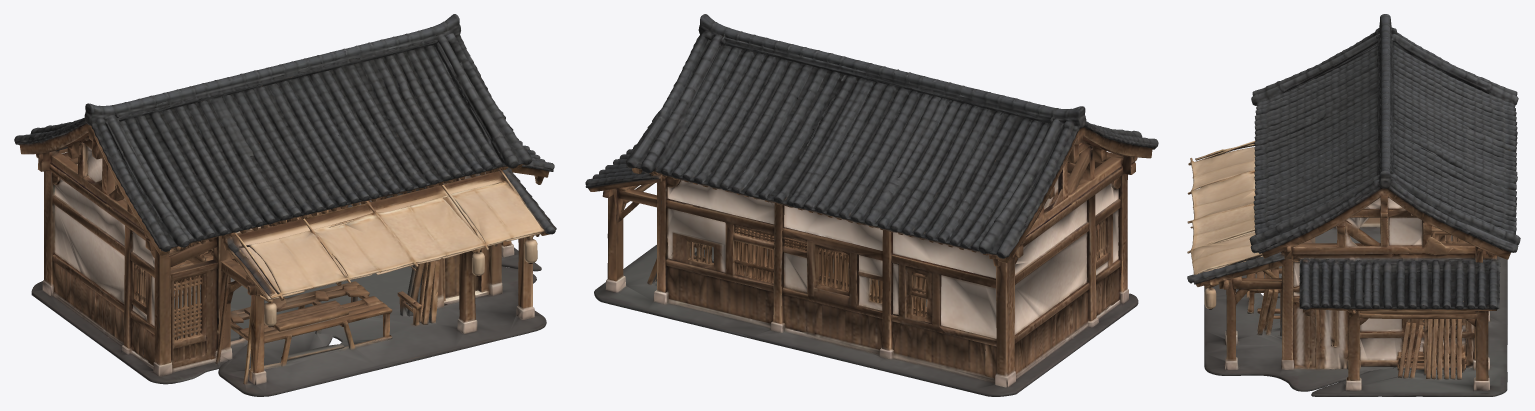
The model's file is 11_Carpenter_Workshop.fbx.
The picture shows the model from 3 angles, left to right: view 1: azimuth 30°, elevation 25°; view 2: azimuth 150°, elevation 25°; view 3: azimuth 270°, elevation 25°; orthographic projection. The views are drawn at different scales.
Parts seen in each view (by area): view 1: 11_Carpenter_Workshop; view 2: 11_Carpenter_Workshop; view 3: 11_Carpenter_Workshop.
Part boxes in pixels (box(x1,y1,x2,y2)): 11_Carpenter_Workshop: box(14, 14, 556, 396); 11_Carpenter_Workshop: box(585, 14, 1158, 396); 11_Carpenter_Workshop: box(1187, 14, 1520, 396).
Size of the model in its own units: 11.19 by 6 by 8.73.
